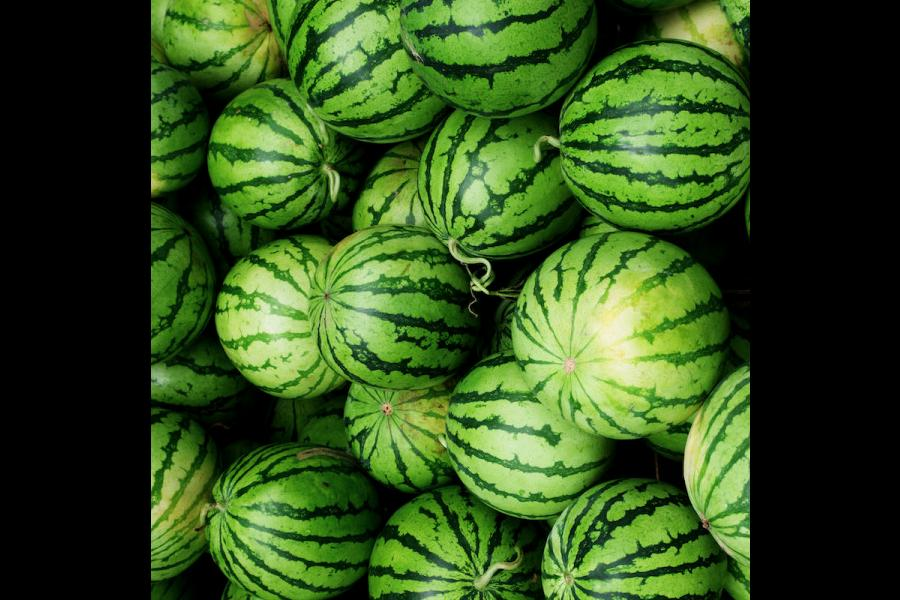dua_hau: (512, 232, 728, 441), (546, 40, 744, 228), (199, 440, 383, 600), (306, 226, 480, 392), (394, 0, 597, 121), (539, 479, 728, 600)
